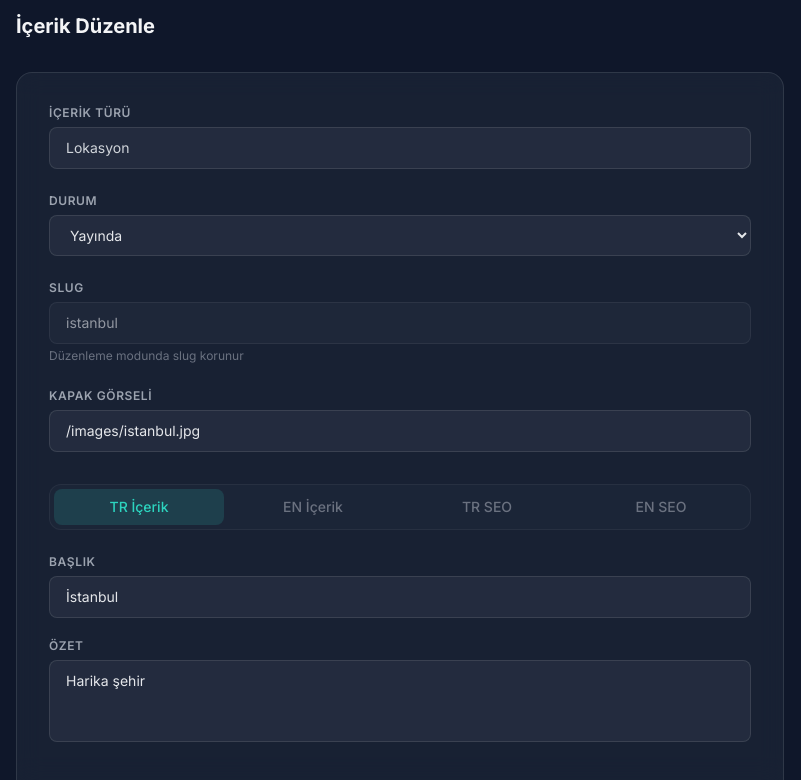
Scenario: ContentEditor › SEO TR tab ile SEO alanlarını gösterir
This screenshot has width=801, height=780.
Step 1. Click the button "TR SEO" → (487,507), box x1=402 y1=489 x2=572 y2=525
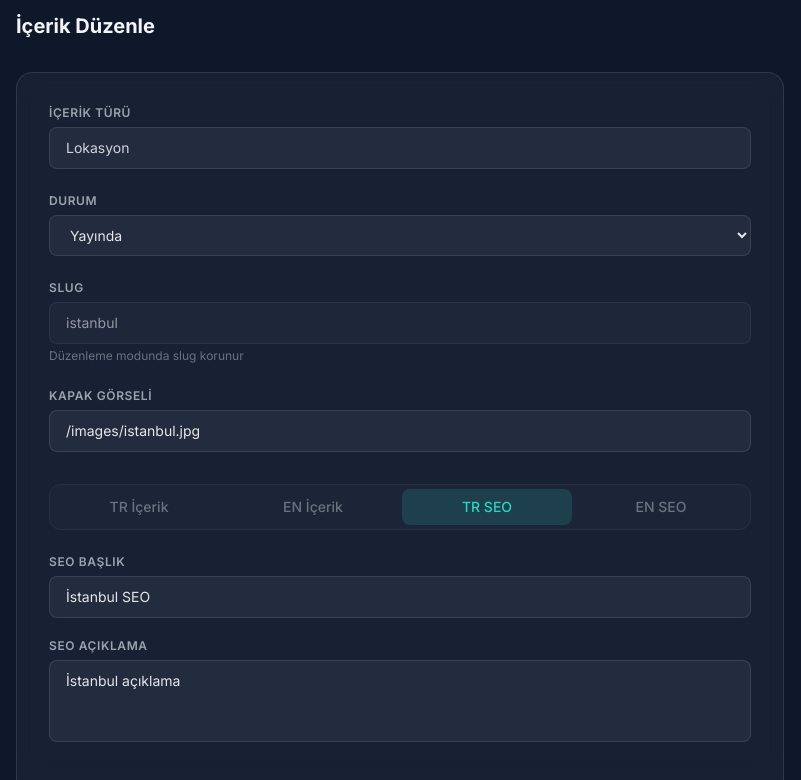
Result: the field showing "İstanbul SEO" below "SEO Başlık" is shown at x1=49 y1=576 x2=751 y2=618
Result: the text box showing "İstanbul açıklama" is shown at x1=49 y1=660 x2=751 y2=742
